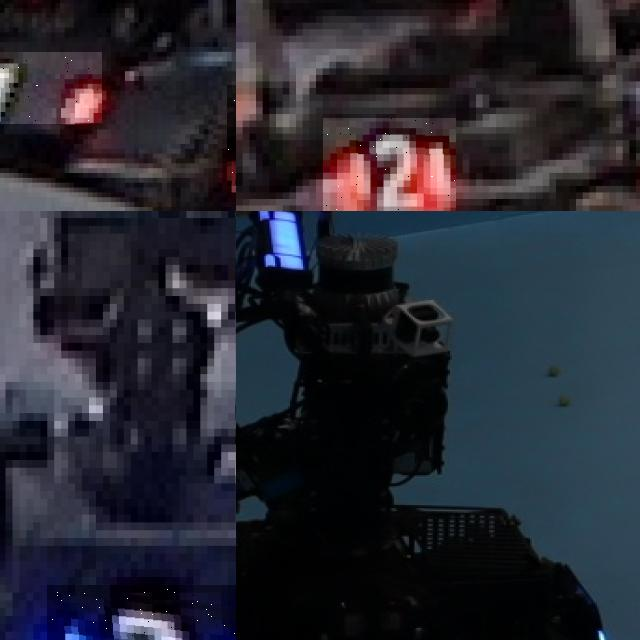B3: (47, 585, 236, 640)
R1: (0, 51, 102, 124)
R2: (322, 117, 456, 211)
